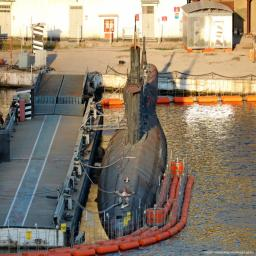submarine: (97, 18, 170, 241)
